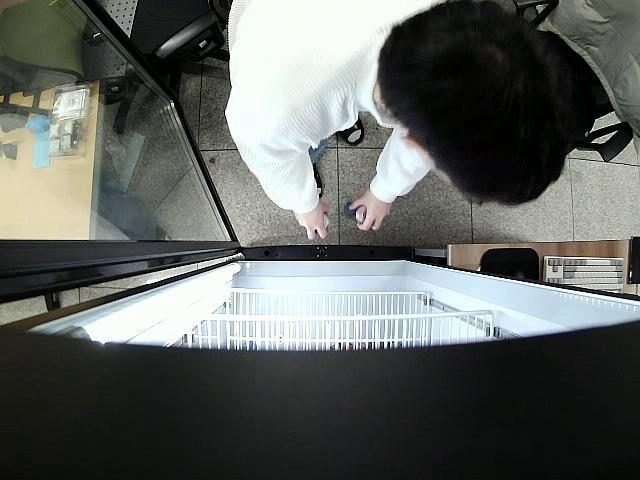16_hot6: (342, 199, 370, 224)
